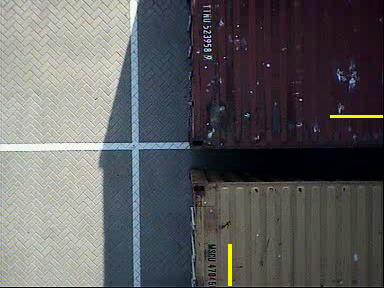groundmarker_2: (206, 2, 244, 27), (186, 156, 233, 176)
